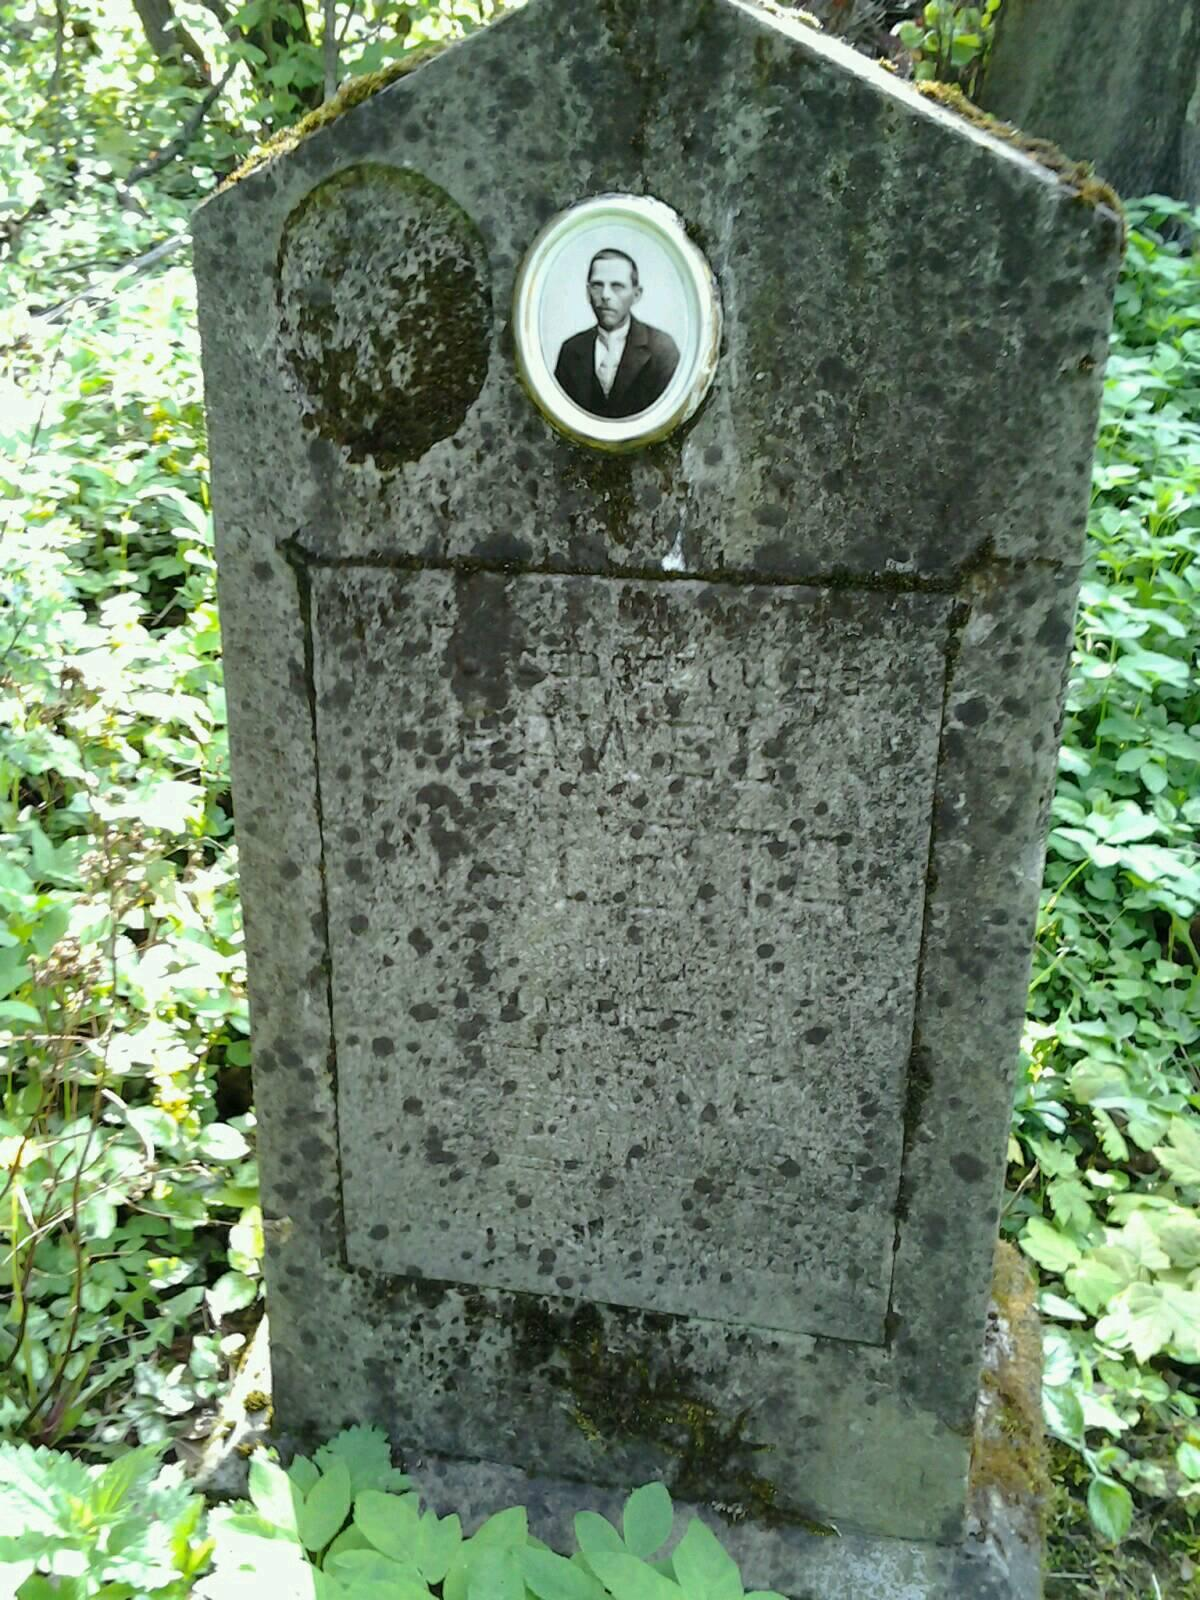upright: (188, 3, 1124, 1600)
